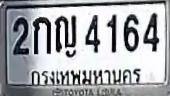1: (106, 13, 116, 52)
2: (12, 17, 28, 54)
4: (142, 12, 158, 51), (84, 14, 99, 52)
6: (123, 13, 138, 51)
A01: (32, 16, 50, 54)
A13: (55, 14, 76, 52)
BKK: (25, 64, 144, 88)
